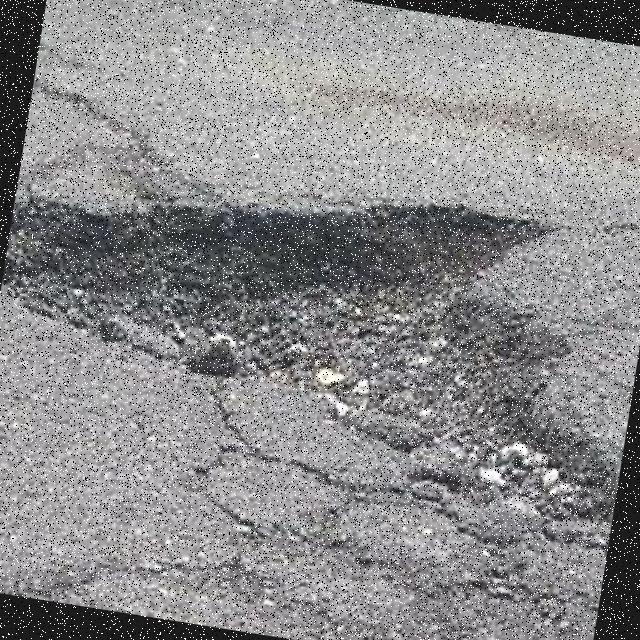Pothole: (1, 199, 618, 525)
